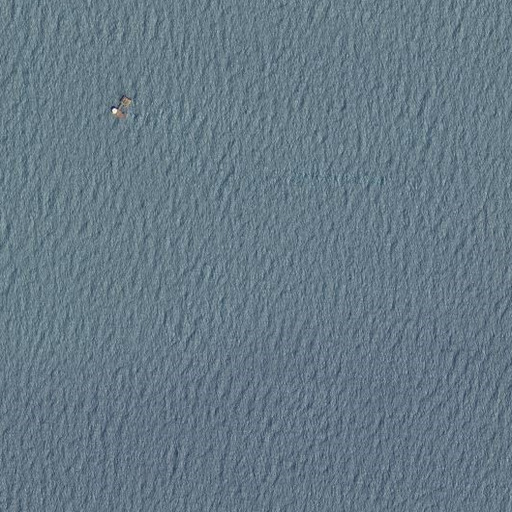ship: (109, 92, 135, 123)
